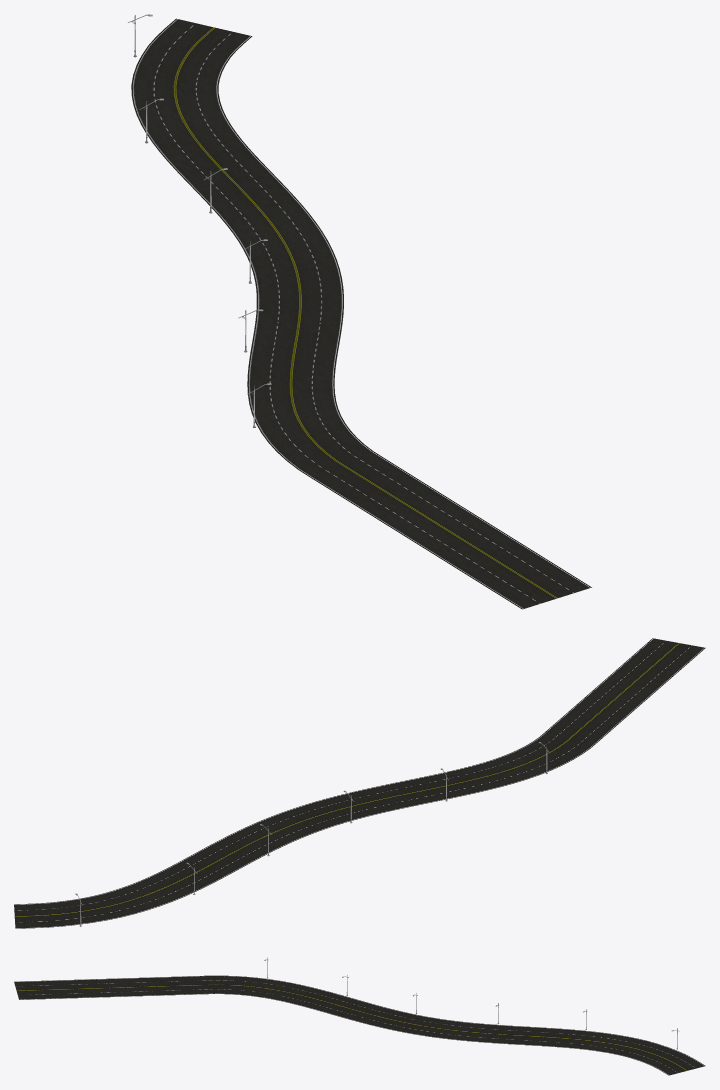
File: road.glb
3 renders of one model, top to bottom at view 1: azimuth 30°, elevation 25°; view 2: azimuth 150°, elevation 25°; view 3: azimuth 270°, elevation 25°, orthographic. The views are drawn at different scales.
Visible parts, largest first — view 1: Plane_3; view 2: Plane_3; view 3: Plane_3.
Boxes of the visible parts, x1,y1,x2,y2 form: Plane_3: (131, 18, 591, 609); Plane_3: (14, 638, 705, 928); Plane_3: (14, 975, 705, 1075).
Size of the model in its own units: 60.89 by 6.03 by 178.
3 materials, 1 textured.
